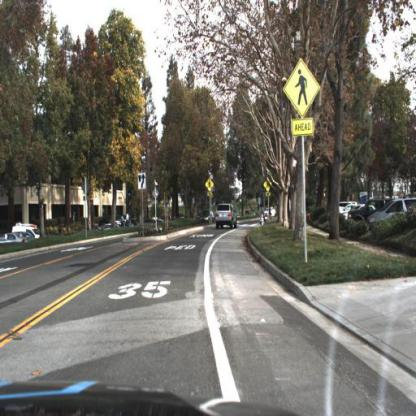car: (366, 196, 416, 234), (349, 198, 388, 221), (213, 200, 238, 233), (10, 221, 42, 242), (29, 223, 40, 239)
pedestrian: (260, 200, 268, 224), (120, 209, 127, 230), (57, 223, 65, 236), (125, 211, 131, 228), (126, 212, 131, 229)
